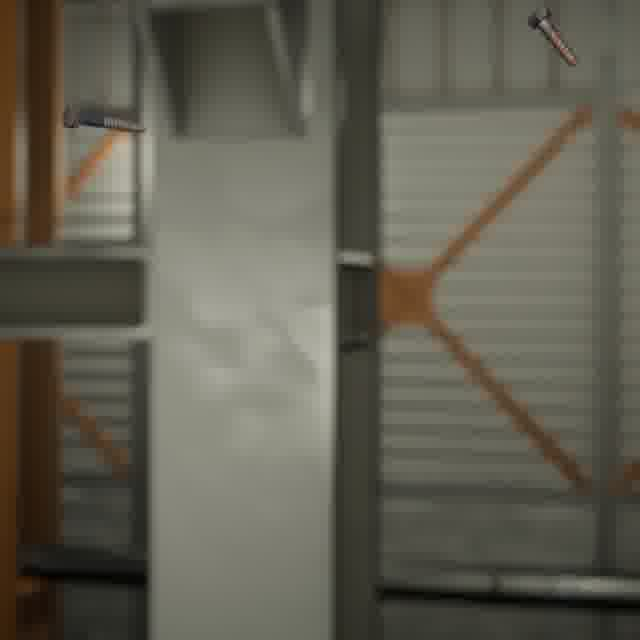bolt: (522, 2, 582, 71), (58, 102, 151, 137)
